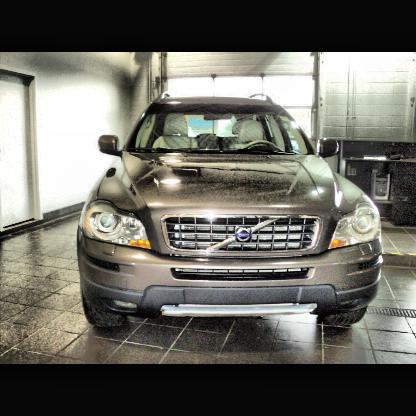Volvo XC90 SUV 2007: (79, 96, 381, 329)
